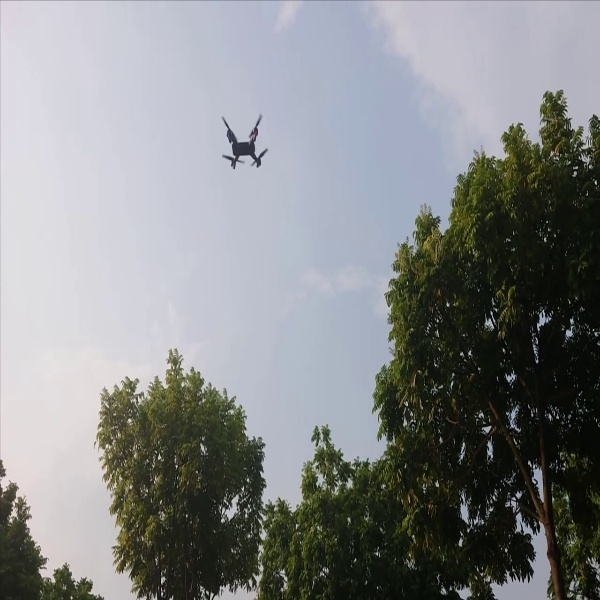drone: (208, 109, 274, 178)
